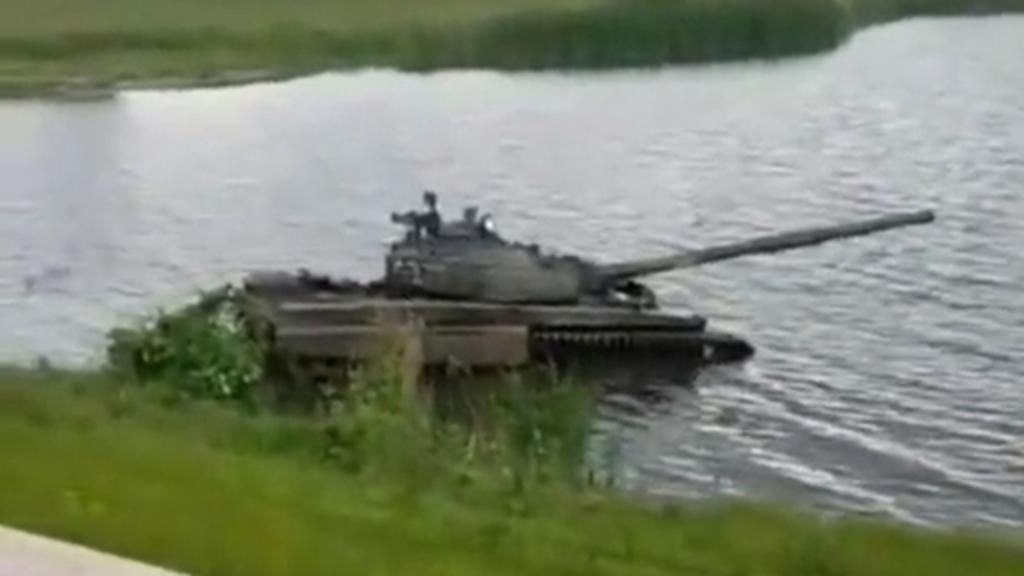TANK: (234, 204, 936, 414)
